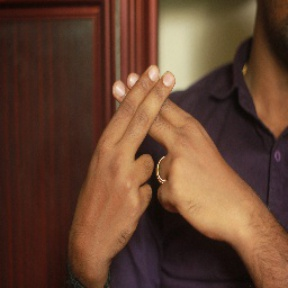F: (83, 55, 212, 183)
